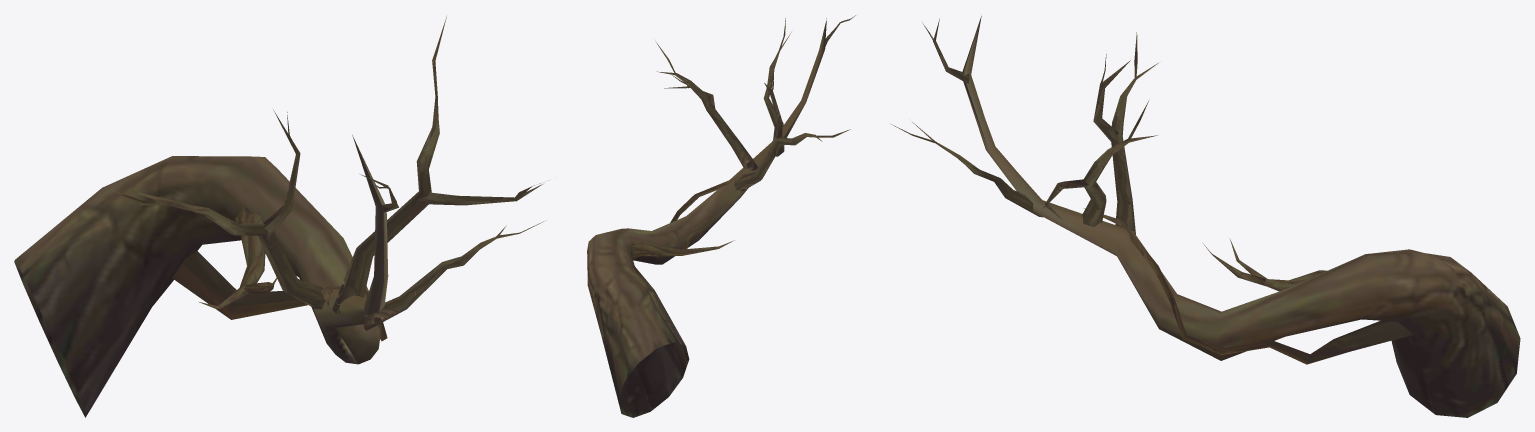
File: SMSD_4_08.fbx
The picture shows the model from 3 angles, left to right: view 1: azimuth 30°, elevation 25°; view 2: azimuth 150°, elevation 25°; view 3: azimuth 270°, elevation 25°; orthographic projection. The views are drawn at different scales.
Visible parts, largest first — view 1: SMSD_4_08; view 2: SMSD_4_08; view 3: SMSD_4_08.
Boxes of the visible parts, bbox=[...] form: SMSD_4_08: bbox=[14, 16, 546, 417]; SMSD_4_08: bbox=[587, 15, 855, 417]; SMSD_4_08: bbox=[891, 16, 1520, 417].
Size of the model in its own units: 91.78 by 112 by 165.
